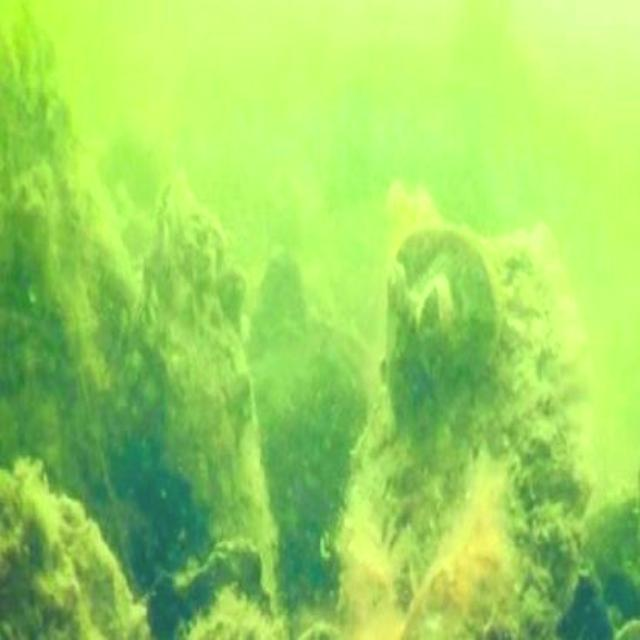Oyster-Closed: (330, 231, 591, 640), (99, 174, 274, 557), (386, 220, 498, 425), (0, 470, 134, 640), (304, 335, 370, 461), (252, 245, 307, 339)
